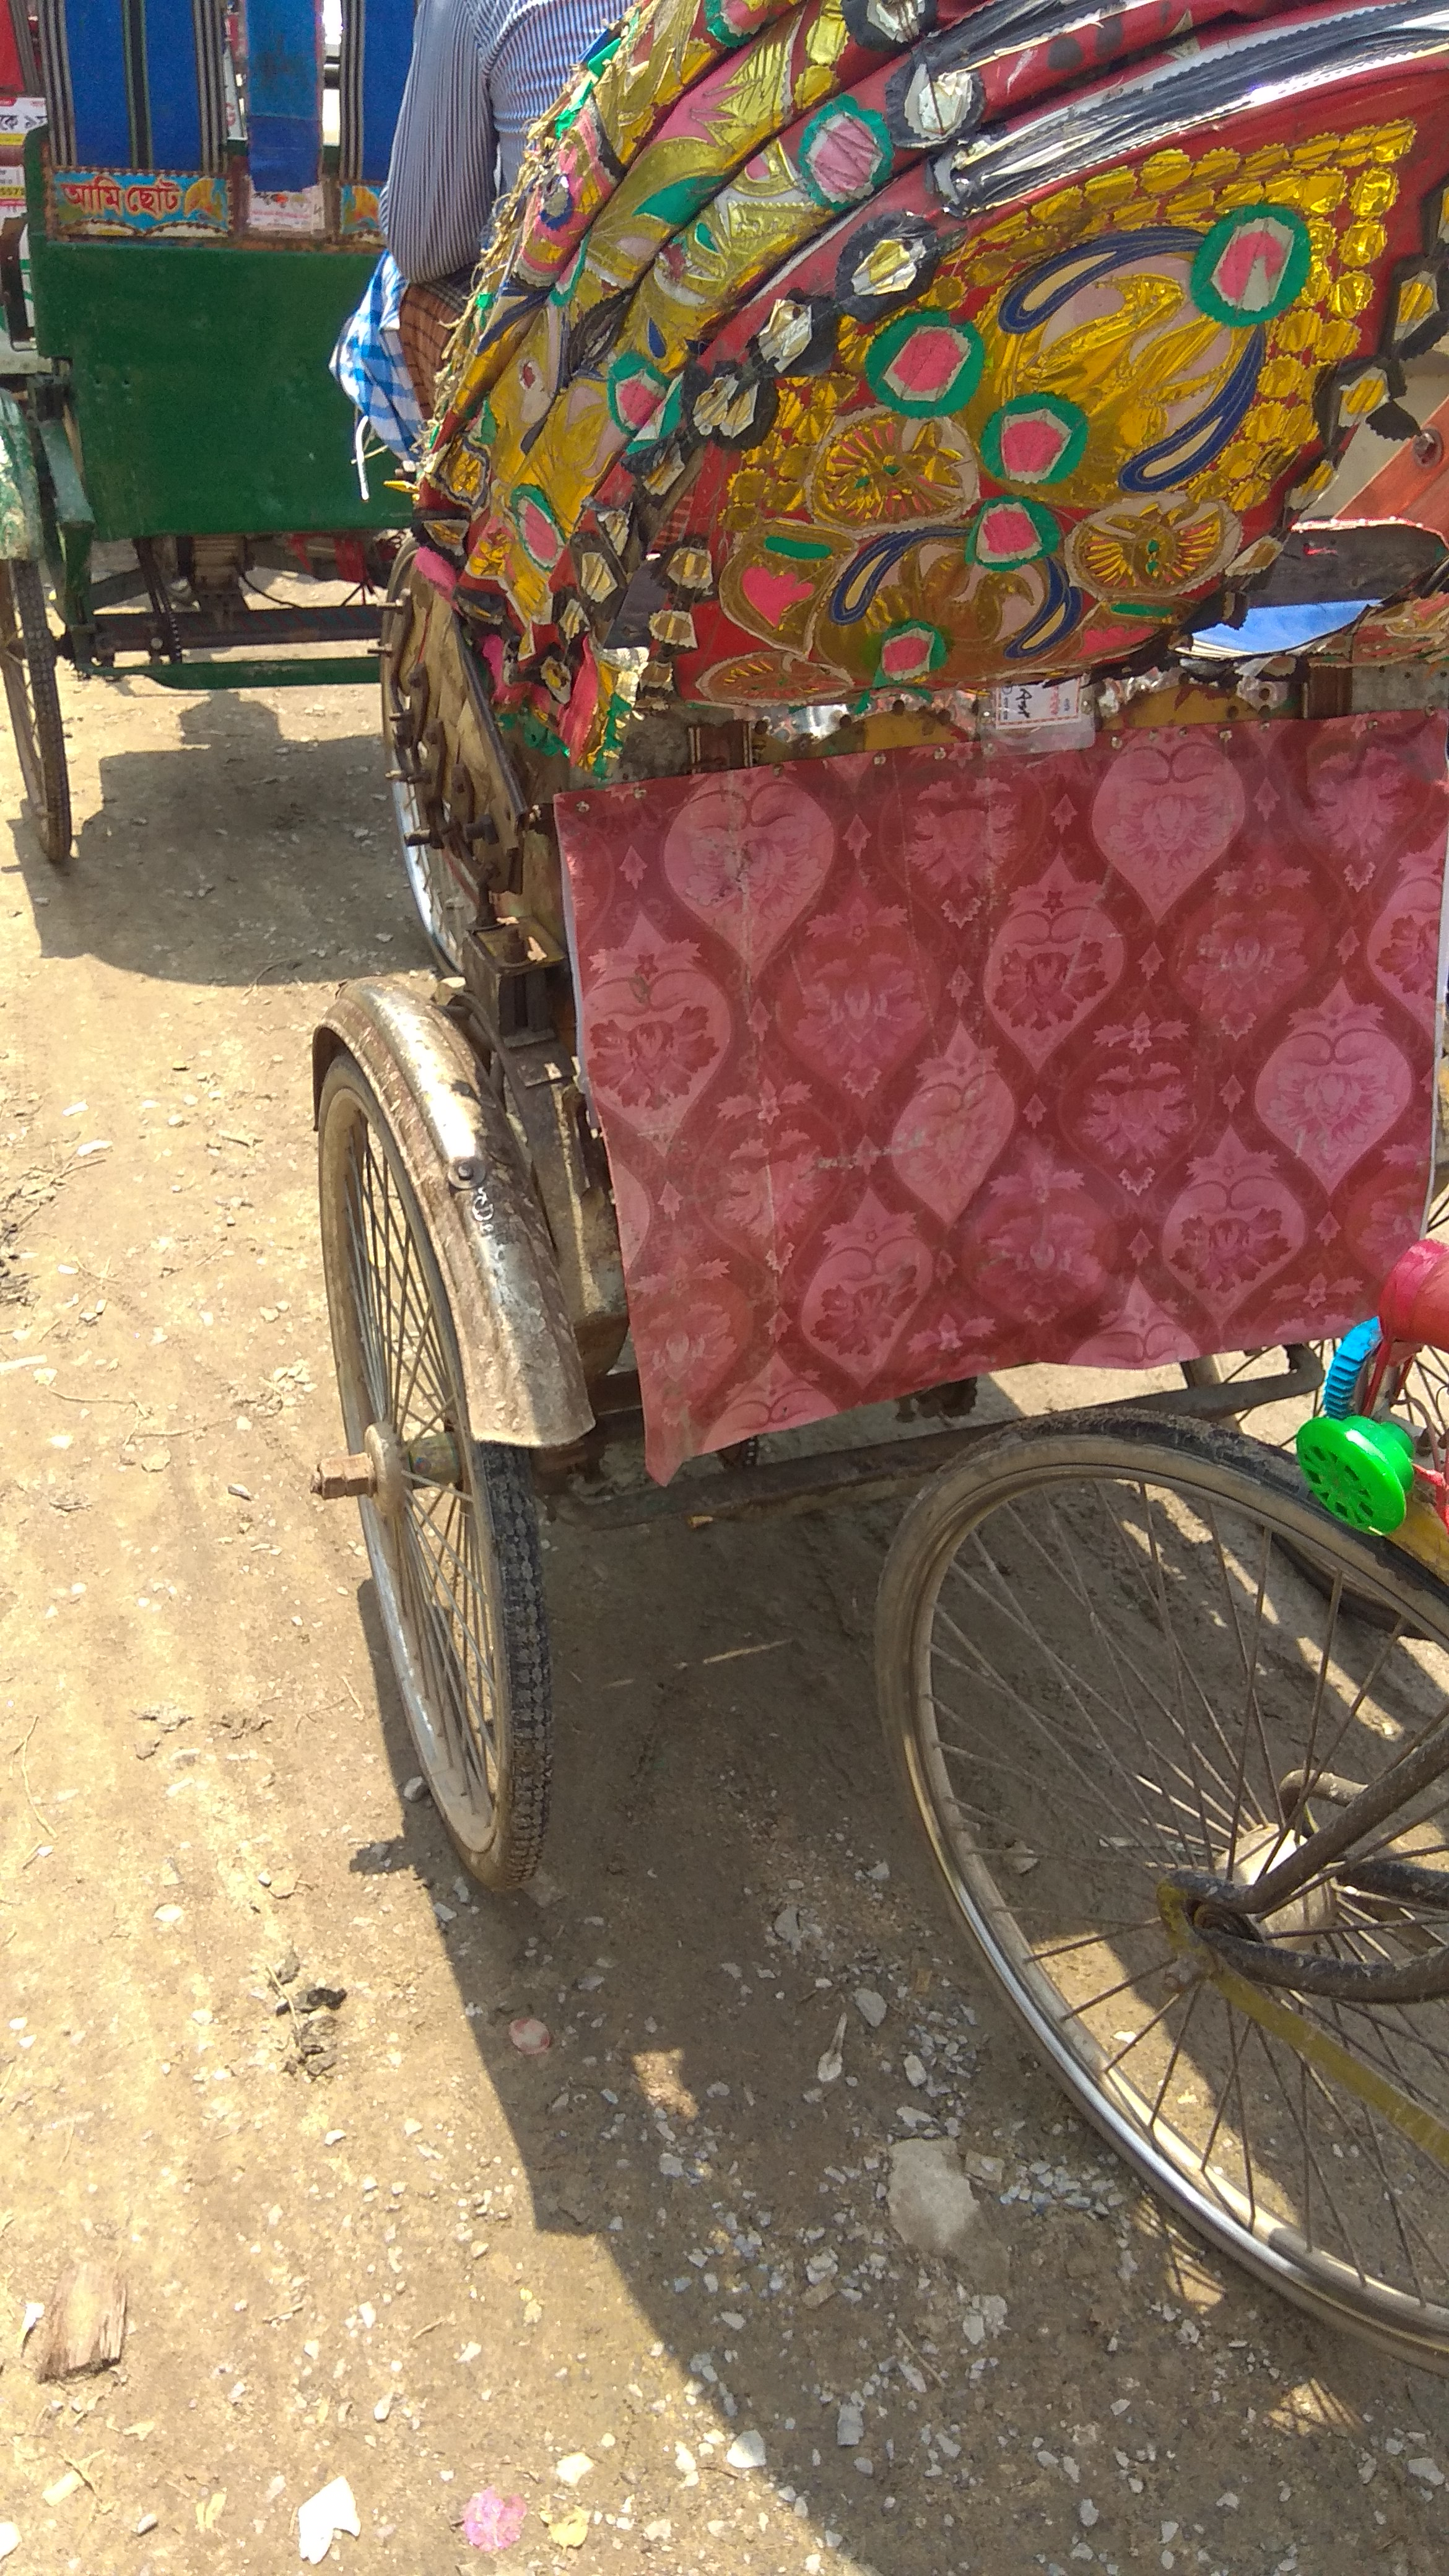Rickshaw: (253, 2, 1447, 1831), (0, 7, 536, 865), (899, 1306, 1431, 2095)
